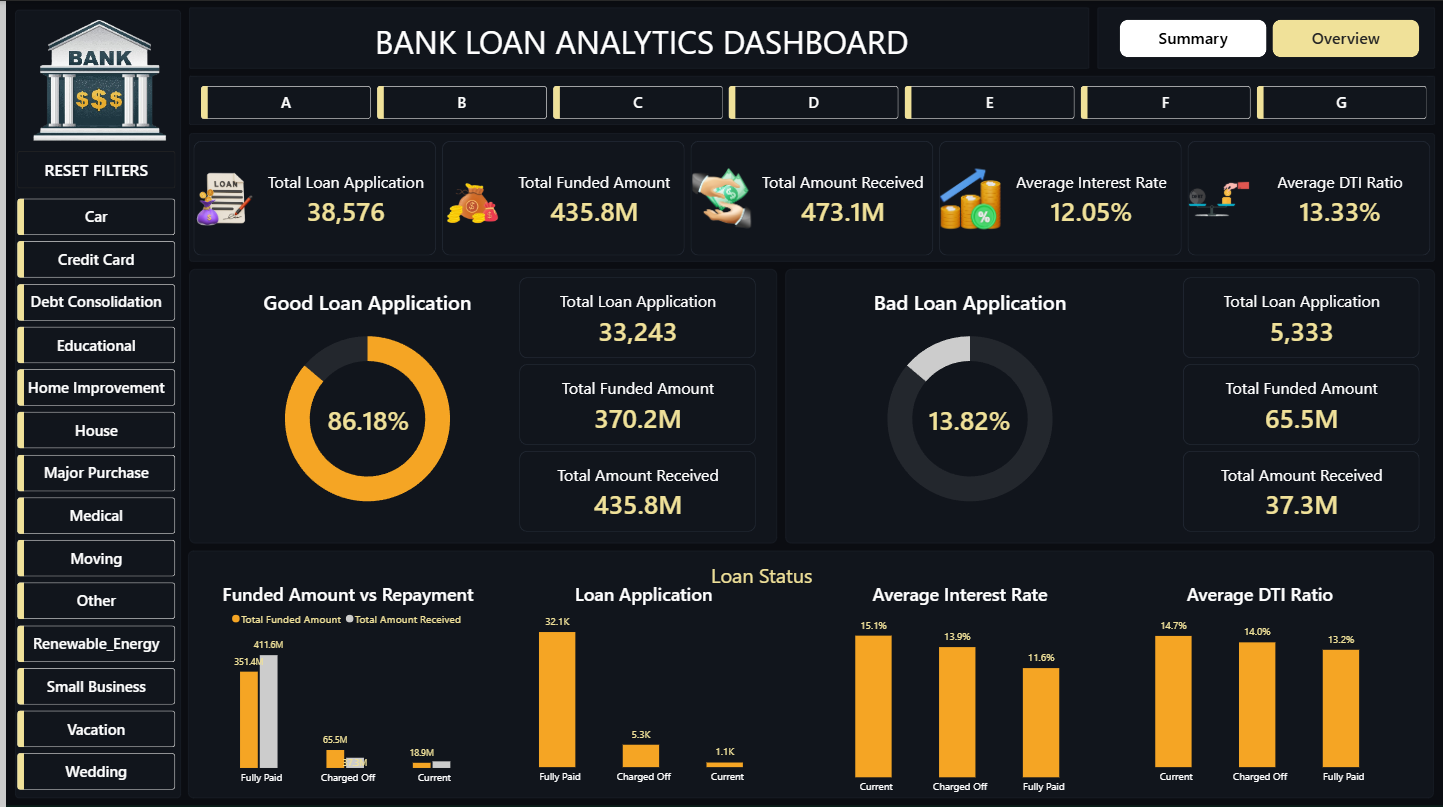

Layout of this report page (visuals, bound fields, positions):
{"tool":"powerbi","page":{"name":"Summary","canvas":[1920,1080],"ordinal":0},"visuals":[{"type":"cardVisual","fields":{"Data":["financial_loan.Total Loan Application","financial_loan.Total Funded Amount","financial_loan.Total Amount Received","financial_loan.Average Interest Rate","financial_loan.Average DTI Rate"]},"box":[250,187.8,1653.3,153.3],"z":0},{"type":"donutChart","title":"Good Loan Application","fields":{"Category":["financial_loan.Good_vs_Bad_Loan"],"Y":["financial_loan.Total Loan Application"]},"box":[272.9,368.6,421.4,342.9],"z":1000},{"type":"donutChart","title":"Bad Loan Application","fields":{"Category":["financial_loan.Good_vs_Bad_Loan"],"Y":["financial_loan.Total Loan Application"]},"box":[1077.1,368.6,421.4,342.9],"z":2000},{"type":"cardVisual","fields":{"Data":["financial_loan.Good Loan %"]},"box":[394.3,514.3,180,88.6],"z":3000},{"type":"cardVisual","fields":{"Data":["financial_loan.Bad Loan %"]},"box":[1197.1,514.3,180,88.6],"z":4000},{"type":"cardVisual","fields":{"Data":["financial_loan.Total Loan Application","financial_loan.Total Funded Amount","financial_loan.Total Amount Received"],"Rows":["financial_loan.Good_vs_Bad_Loan"]},"box":[651.4,368.6,350,342.9],"z":5000},{"type":"cardVisual","fields":{"Data":["financial_loan.Total Loan Application","financial_loan.Total Funded Amount","financial_loan.Total Amount Received"],"Rows":["financial_loan.Good_vs_Bad_Loan"]},"box":[1538.6,368.6,350,342.9],"z":6000},{"type":"clusteredColumnChart","title":"Funded Amount vs Repayment","fields":{"Category":["financial_loan.LOAN_STATUS"],"Y":["financial_loan.Total Funded Amount","financial_loan.Total Amount Received"]},"box":[250,761.4,412.9,305.7],"z":7000},{"type":"clusteredColumnChart","title":"Loan Application","fields":{"Category":["financial_loan.LOAN_STATUS"],"Y":["financial_loan.Total Loan Application"]},"box":[651.2,761.2,401.2,305],"z":8000},{"type":"textbox","box":[941.2,747.5,222.5,112.5],"z":9000},{"type":"clusteredColumnChart","title":"Average Interest Rate","fields":{"Category":["financial_loan.LOAN_STATUS"],"Y":["financial_loan.Average Interest Rate"]},"box":[1072.9,761.4,401.4,318.6],"z":10000},{"type":"clusteredColumnChart","title":"Average DTI Ratio","fields":{"Category":["financial_loan.LOAN_STATUS"],"Y":["financial_loan.Average DTI Ratio"]},"box":[1473.8,761.2,401.2,305],"z":11000},{"type":"image","box":[0,0,250,210],"z":12000},{"type":"advancedSlicerVisual","fields":{"Values":["financial_loan.PURPOSE"]},"box":[14.3,264.3,211.4,802.9],"z":13000},{"type":"advancedSlicerVisual","fields":{"Values":["financial_loan.GRADE"]},"box":[260,113,1643,44],"z":14000},{"type":"actionButton","box":[14.3,200,211.4,50],"z":15000},{"type":"textbox","box":[250,24.3,1197.1,68.6],"z":16000},{"type":"pageNavigator","box":[1488.6,24.3,400,50],"z":17000}]}

Visuals, with their boxes in screenshot pixels (x1, y1, x2, y2), scaled from the page's 1920x1080 canvas onto the 1443x807 screenshot:
cardVisual - financial_loan.Total Loan Application x financial_loan.Total Funded Amount: 188,140,1430,255
"Good Loan Application" donutChart: 205,275,522,532
"Bad Loan Application" donutChart: 810,275,1126,532
cardVisual - financial_loan.Good Loan %: 296,384,432,451
cardVisual - financial_loan.Bad Loan %: 900,384,1035,451
cardVisual - financial_loan.Total Loan Application x financial_loan.Total Funded Amount: 490,275,753,532
cardVisual - financial_loan.Total Loan Application x financial_loan.Total Funded Amount: 1156,275,1419,532
"Funded Amount vs Repayment" clusteredColumnChart: 188,569,498,797
"Loan Application" clusteredColumnChart: 489,569,791,797
textbox: 707,559,875,643
"Average Interest Rate" clusteredColumnChart: 806,569,1108,806
"Average DTI Ratio" clusteredColumnChart: 1108,569,1409,797
image: 0,0,188,157
advancedSlicerVisual - financial_loan.PURPOSE: 11,197,170,797
advancedSlicerVisual - financial_loan.GRADE: 195,84,1430,117
actionButton: 11,149,170,187
textbox: 188,18,1088,69
pageNavigator: 1119,18,1419,56
